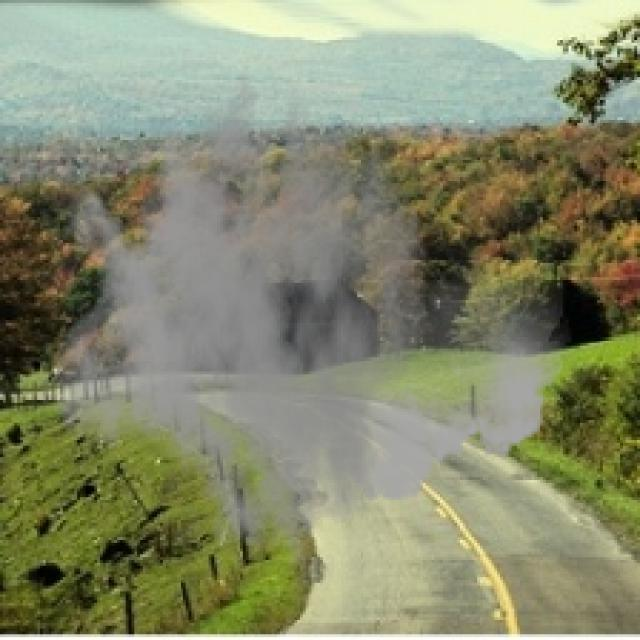Smoke: (49, 42, 572, 568)
